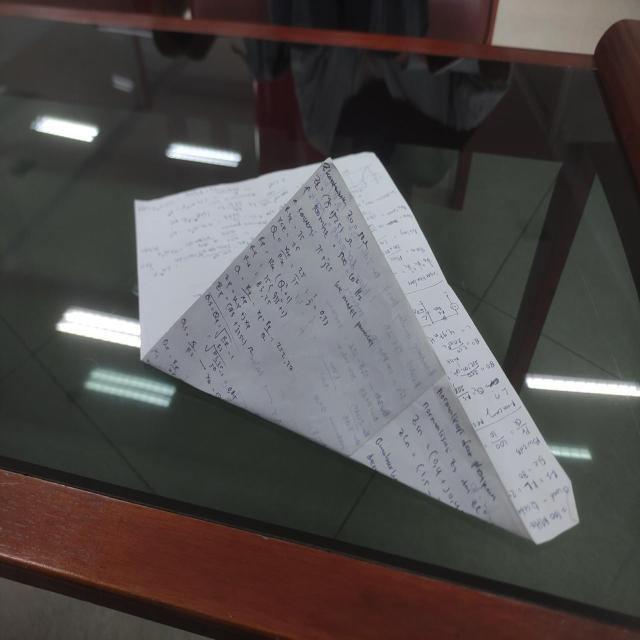KertasBekas: (136, 151, 578, 545)
